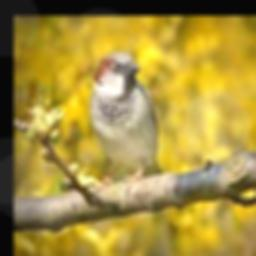Sparrow: (89, 51, 164, 184)
